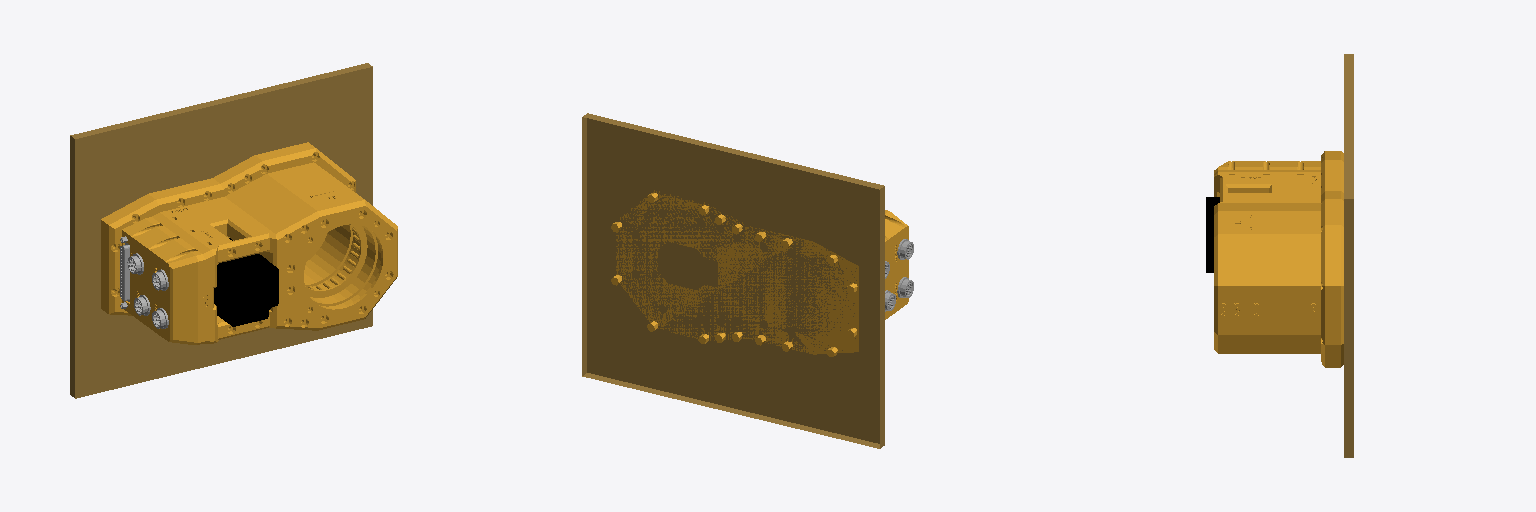
3 renders of one model, left to right at view 1: azimuth 30°, elevation 25°; view 2: azimuth 150°, elevation 25°; view 3: azimuth 270°, elevation 25°, orthographic.
Visible parts, largest first — view 1: Anchor; view 2: Anchor; view 3: Anchor.
Part boxes in pixels (left/top/right/bottom): Anchor: left=70, top=63, right=397, bottom=398; Anchor: left=582, top=113, right=913, bottom=448; Anchor: left=1206, top=54, right=1353, bottom=457.
Bounding box in the file's own units: 30 × 25 × 12.9.
1 materials, 1 textured.